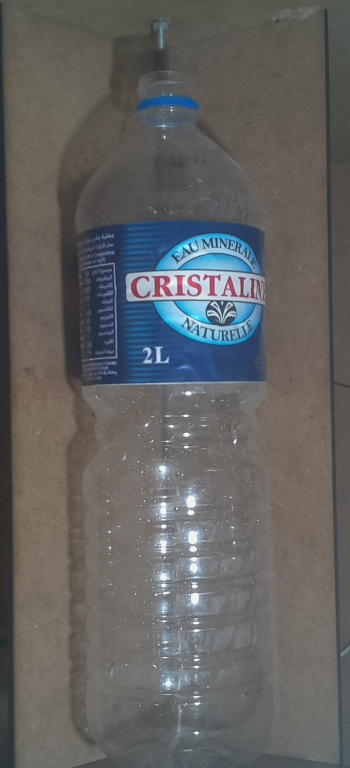Bouteille_2L: (69, 63, 295, 768)
